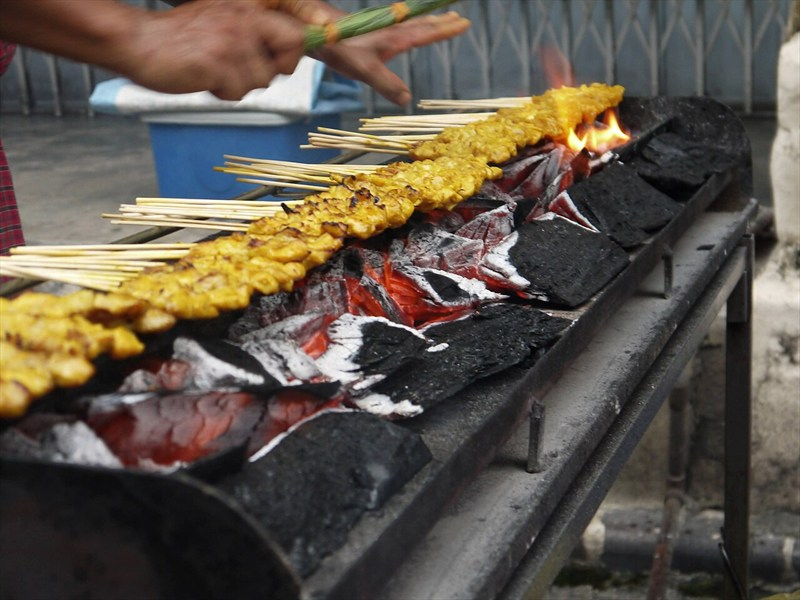Sate Ayam: (16, 74, 628, 416)
